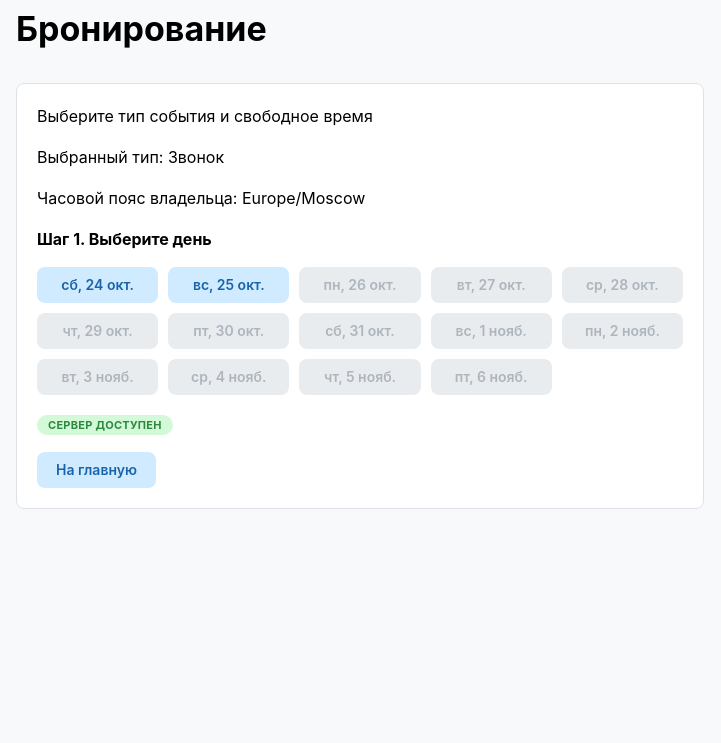
Test: день только с занятым временем открывается, но занятый слот нельзя выбрать
Click the button "24 окт". click: (98, 285)
box: [37,267,158,303]
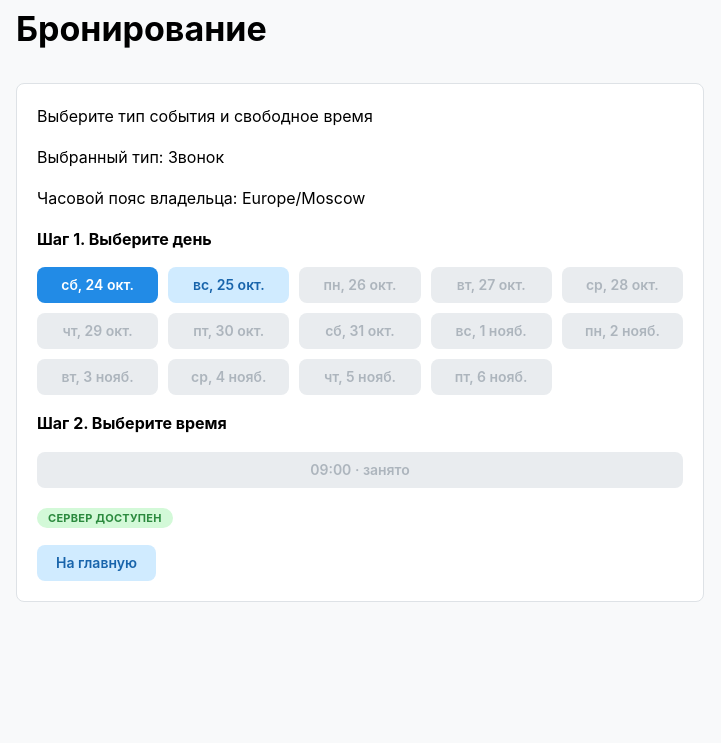
Expected: the button "Забронировать" is not shown
Now the button "09:00 · занято" is disabled, box [37,452,683,488]
Now the button "09:00 · занято" is shown, box [37,452,683,488]
Click the button "вс, 25 окт.". click: (229, 285)
box: [168,267,289,303]
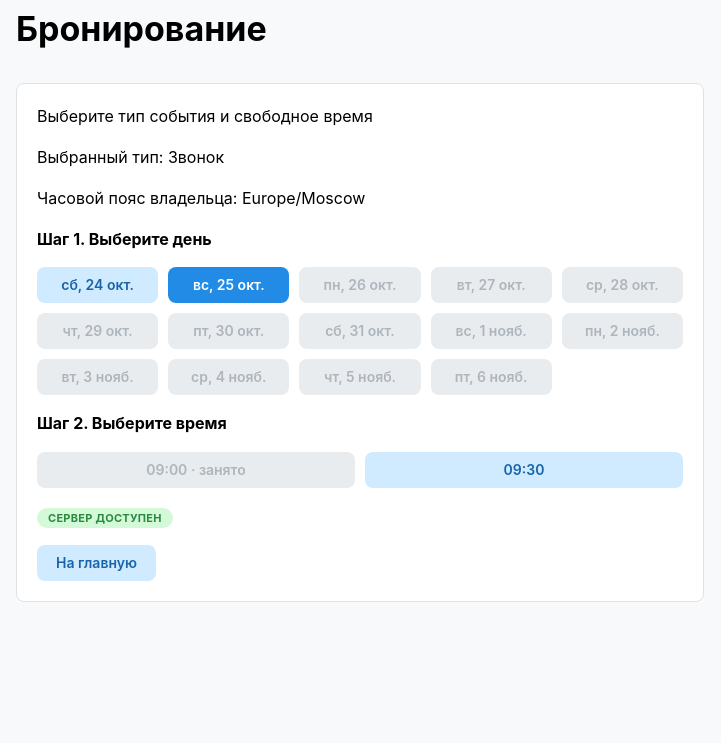
Now the buttons read "09:00 · занято", "09:30", in this order
Click the button "09:30". click: (524, 470)
box: [365,452,683,488]
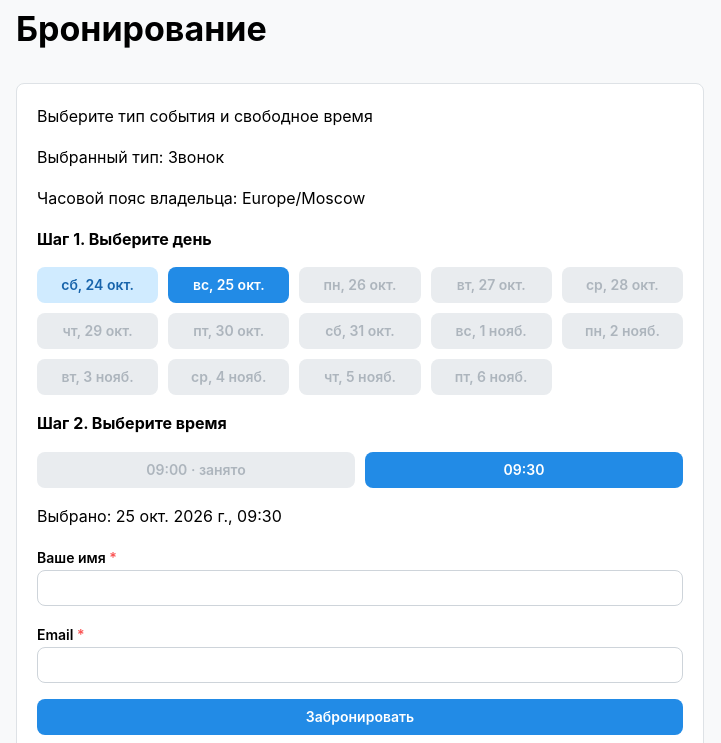
Now the text "Выбрано: 25 окт. 2026 г., 09:30" is shown, box [37,506,282,526]
